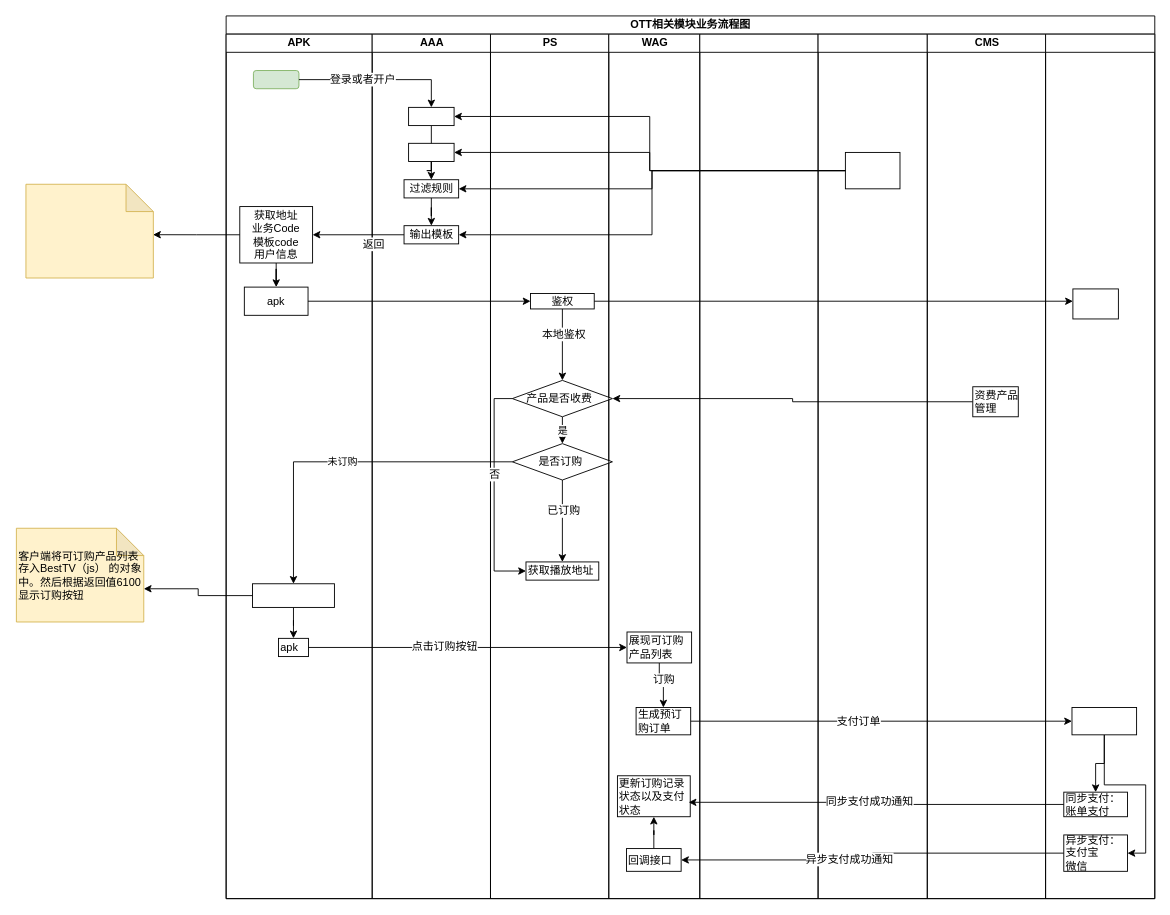
Some shapes in this 1170 by 915 pixel diagram are drawn without their labels. The box of each missing label's shape, as (x1, y1, x2, y2) in pixels:
OSS: (817, 33, 927, 899)
PREBOSS: (699, 33, 818, 899)
地址：wag,ps,epg地址 业务code:获取epg信息 模板code:获取资费code供ps使用 用户信息:通过令牌将用户信息再各个模块之间流转: (25, 183, 153, 278)
开机: (253, 70, 299, 89)
报备: (408, 106, 454, 126)
白名单: (408, 142, 454, 162)
第三方支付中心: (1071, 707, 1137, 735)
第三方系统: (1045, 33, 1155, 899)
第三方鉴权: (1072, 288, 1118, 319)
设备管理: (844, 152, 900, 189)
返回6100以及可订购产品列表: (252, 583, 334, 607)
